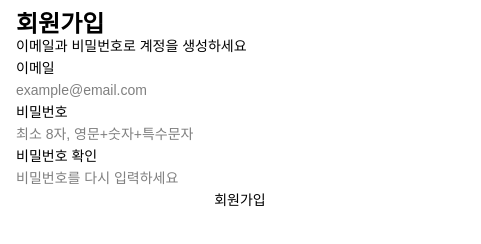
Test: SignupForm › 중복 이메일 에러를 처리한다
The width and height of the screenshot is (481, 244).
# 유효한 데이터 입력
Type "test@example.com" into the field labelled "이메일". click: (240, 90)
box: [16,80,464,100]
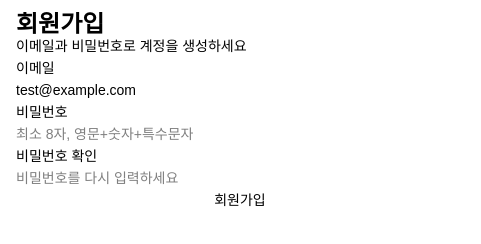
Type "Password123!" into the password field labelled "비밀번호". click: (240, 134)
box: [16,124,464,144]
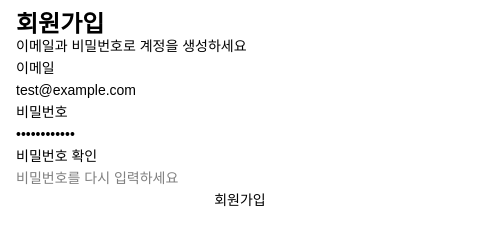
Type "Password123!" into the password field labelled "비밀번호 확인". click: (240, 178)
box: [16,168,464,188]
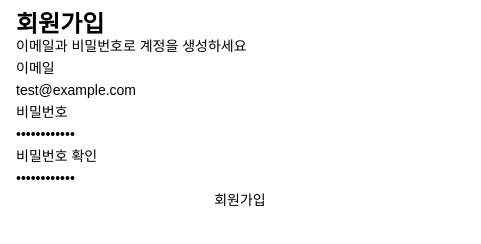
Click the button "회원가입". click: (240, 200)
box: [16,190,464,210]
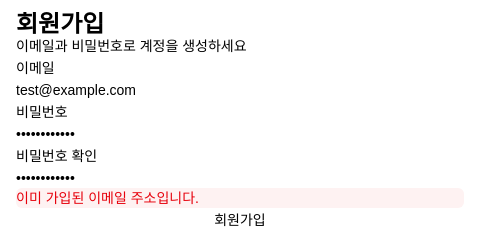
Now the text "이미 가입된 이메일 주소입니다." is shown, box [16,190,199,206]
